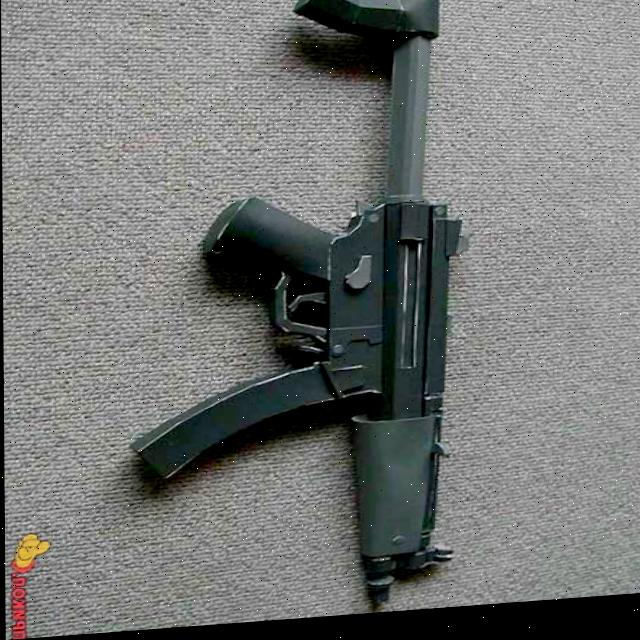firearm: (124, 0, 451, 625)
